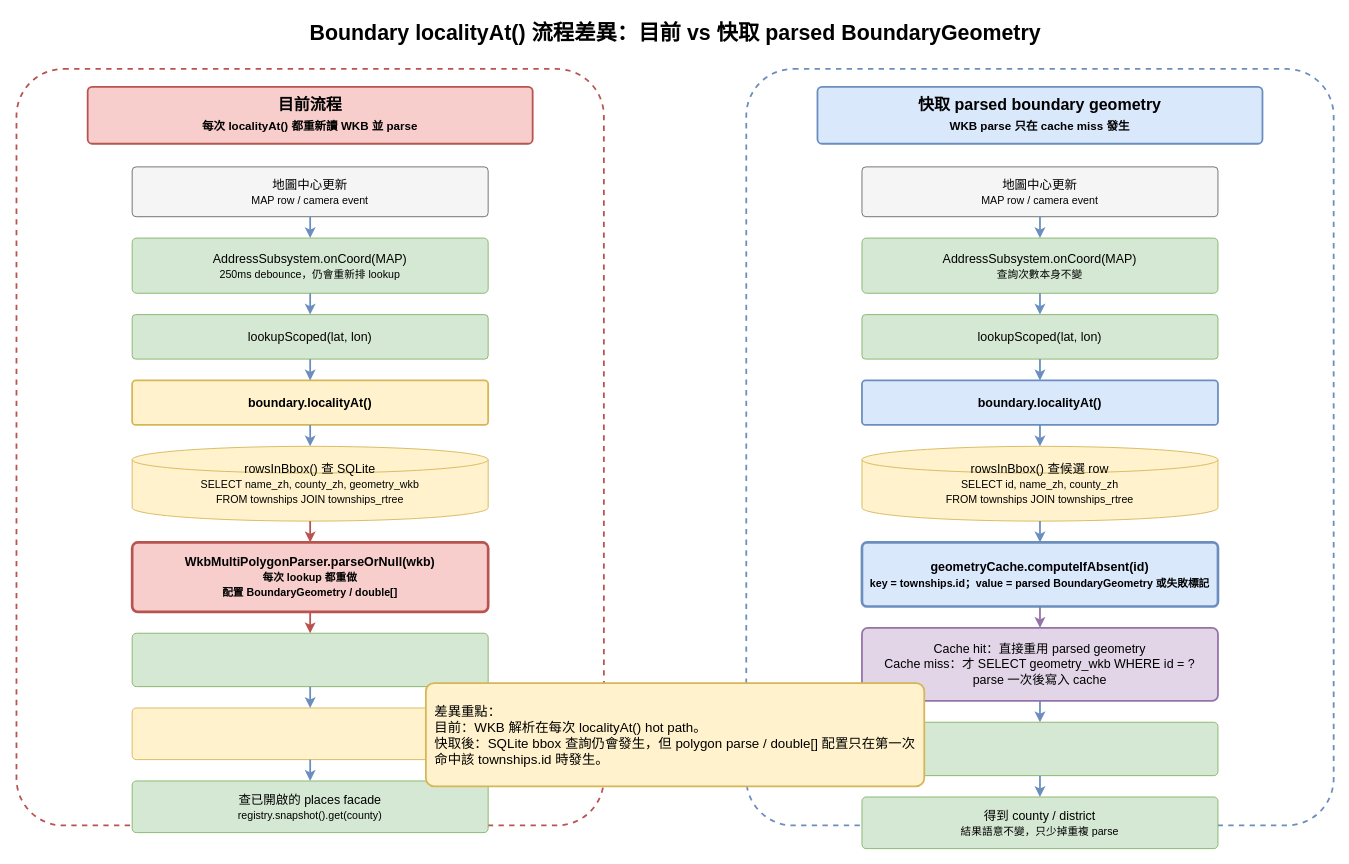
This 1349x864 diagram has some shape labels left out. The shapes that lost their labels are listed below. From the top down, each one's centre as x and y in pixels, then its label:
At pixel 309 659: "BoundaryGeometry.covers() / snap point-in-polygon 或 nearest vertex".
At pixel 309 733: "得到 county / district 邊界附近可能在兩縣市間跳動".
At pixel 1039 748: "BoundaryGeometry.covers() / snap 同樣支援 MultiPolygon、飛地、hole".
